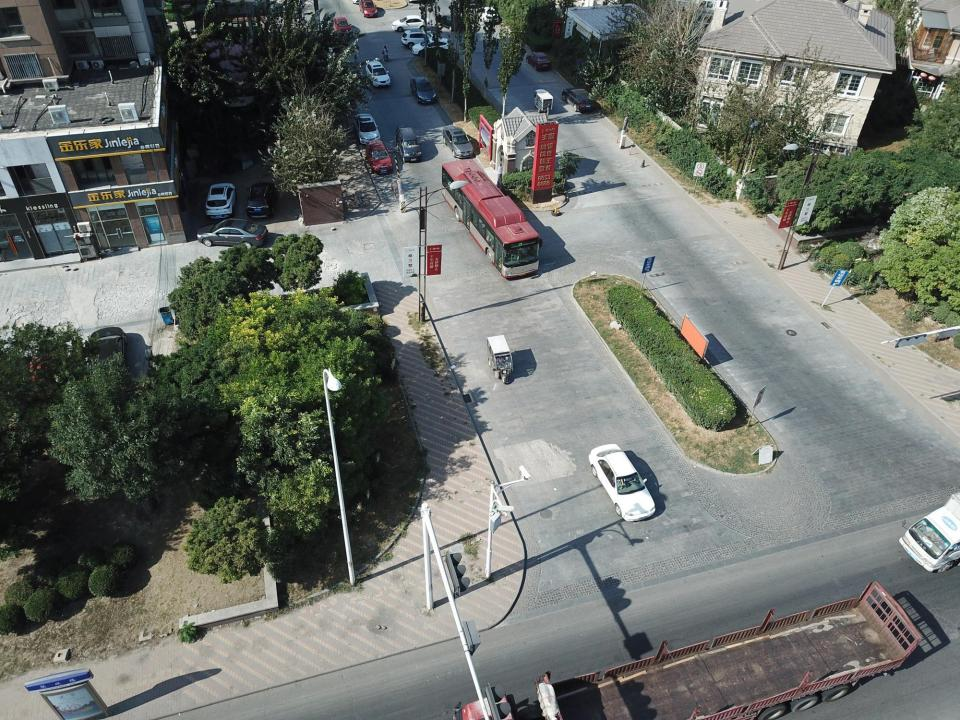bus: (442, 158, 542, 278)
car: (588, 443, 657, 522), (83, 326, 125, 392), (196, 218, 269, 248), (246, 181, 278, 219), (205, 182, 236, 218), (442, 126, 474, 158), (365, 140, 393, 172), (353, 113, 381, 143), (561, 88, 595, 111), (410, 76, 437, 104), (412, 38, 450, 56), (401, 30, 439, 48), (365, 60, 390, 87), (392, 15, 430, 32), (436, 14, 466, 32), (526, 52, 553, 71), (476, 6, 499, 25), (359, 0, 378, 18), (331, 17, 352, 33)
truck: (450, 581, 922, 720), (898, 492, 960, 574)
van: (396, 125, 422, 163)
